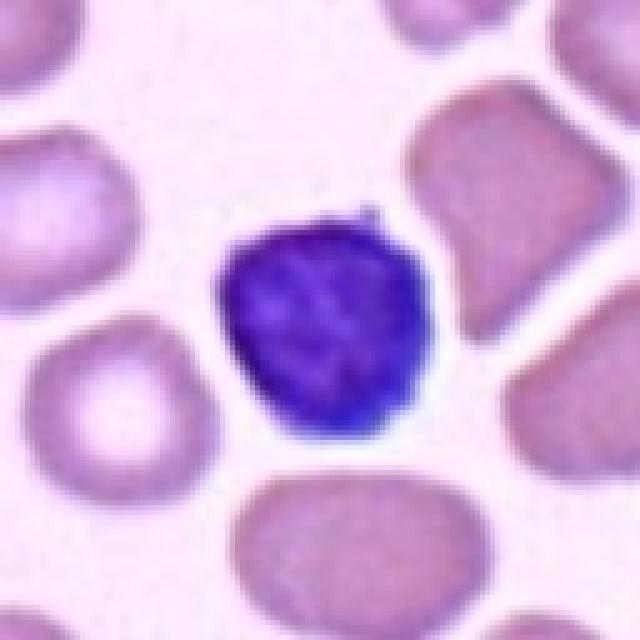lympho: (191, 167, 453, 457)
